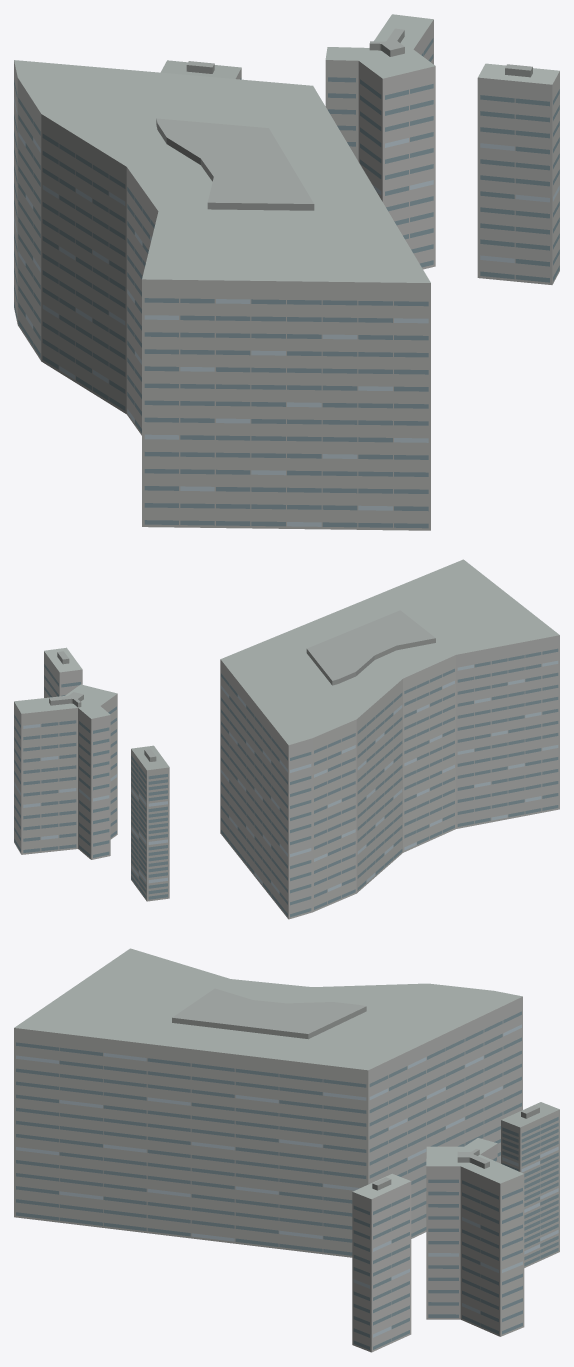
File: apt-a10023709.glb
3 views of the same model, one above another, from view 1: azimuth 30°, elevation 25°; view 2: azimuth 150°, elevation 25°; view 3: azimuth 270°, elevation 25° (orthographic). The views are drawn at different scales.
Parts seen in each view (by area): view 1: apt-a10023709; view 2: apt-a10023709; view 3: apt-a10023709.
Boxes of the visible parts, x1,y1,x2,y2 form: apt-a10023709: (14, 14, 559, 530); apt-a10023709: (14, 559, 559, 919); apt-a10023709: (14, 948, 559, 1352).
Bounding box in the file's own units: 215 × 90.85 × 231.
